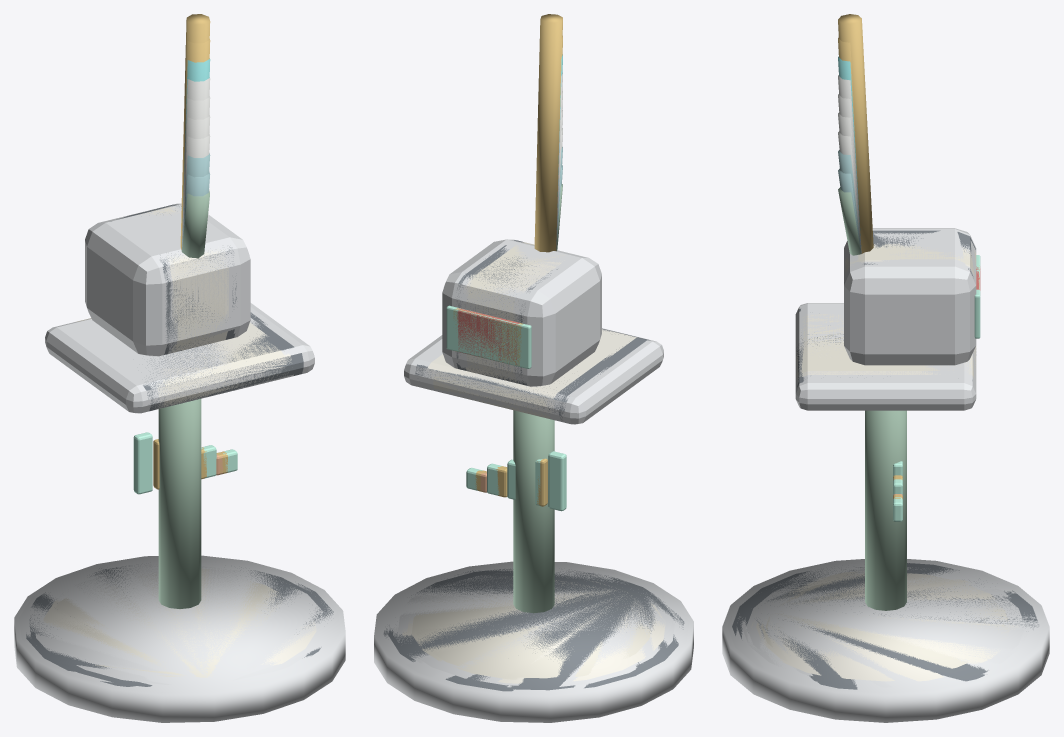
File: Gear08.fbx
3 views of the same model, side by side, from view 1: azimuth 30°, elevation 25°; view 2: azimuth 150°, elevation 25°; view 3: azimuth 270°, elevation 25° (orthographic). The views are drawn at different scales.
Visible parts, largest first — view 1: Gear08_V10_Platinum, Gear08_V9_Platinum, Gear08_V1_Sage, Gear08_V6_Platinum, Gear08_V2_Ivory, Gear08_V4_Linen, Gear08_V7_Graphite, Gear08_V1_Ivory, Gear08_V3_Linen, Gear08_V8_Graphite, Gear08_V5_Platinum, Gear08_V10_Gold (+10 smaller); view 2: Gear08_V10_Platinum, Gear08_V7_Graphite, Gear08_V2_Ivory, Gear08_V1_Sage, Gear08_V1_Ivory, Gear08_V6_Platinum, Gear08_V10_Gold, Gear08_V4_Linen, Gear08_V3_Linen, Gear08_V9_Platinum, Gear08_V10_Glow, Gear08_V5_Platinum (+9 smaller); view 3: Gear08_V10_Platinum, Gear08_V5_Platinum, Gear08_V1_Sage, Gear08_V9_Platinum, Gear08_V8_Graphite, Gear08_V1_Ivory, Gear08_V3_Linen, Gear08_V4_Linen, Gear08_V10_Gold, Gear08_V6_Platinum, Gear08_V2_Ivory, Gear08_V7_Graphite (+1 smaller).
Boxes of the visible parts, box(x1,y1,x2,y2) form: Gear08_V10_Platinum: box(14, 203, 345, 722); Gear08_V9_Platinum: box(19, 204, 340, 692); Gear08_V1_Sage: box(158, 189, 209, 608); Gear08_V6_Platinum: box(35, 206, 324, 680); Gear08_V2_Ivory: box(56, 207, 284, 677); Gear08_V4_Linen: box(43, 206, 316, 665); Gear08_V7_Graphite: box(29, 221, 328, 686); Gear08_V1_Ivory: box(100, 207, 283, 676); Gear08_V3_Linen: box(54, 250, 288, 628); Gear08_V8_Graphite: box(26, 204, 333, 686); Gear08_V5_Platinum: box(42, 205, 316, 684); Gear08_V10_Gold: box(180, 14, 210, 249); Gear08_V10_Platinum: box(374, 239, 693, 722); Gear08_V7_Graphite: box(388, 240, 678, 690); Gear08_V2_Ivory: box(411, 242, 604, 679); Gear08_V1_Sage: box(513, 184, 562, 613); Gear08_V1_Ivory: box(416, 254, 650, 678); Gear08_V6_Platinum: box(393, 241, 674, 687); Gear08_V10_Gold: box(534, 14, 562, 252); Gear08_V4_Linen: box(402, 259, 665, 683); Gear08_V3_Linen: box(407, 242, 658, 681); Gear08_V9_Platinum: box(379, 240, 688, 676); Gear08_V10_Glow: box(446, 305, 556, 509); Gear08_V5_Platinum: box(397, 252, 670, 685); Gear08_V10_Platinum: box(722, 228, 1049, 722); Gear08_V5_Platinum: box(746, 241, 1024, 675); Gear08_V1_Sage: box(838, 187, 906, 610); Gear08_V9_Platinum: box(727, 230, 1044, 693); Gear08_V8_Graphite: box(732, 230, 1038, 689); Gear08_V1_Ivory: box(765, 243, 1005, 668); Gear08_V3_Linen: box(756, 243, 1015, 681); Gear08_V4_Linen: box(751, 244, 1018, 681); Gear08_V10_Gold: box(838, 14, 873, 253); Gear08_V6_Platinum: box(741, 243, 1029, 687); Gear08_V2_Ivory: box(761, 244, 1010, 647); Gear08_V7_Graphite: box(737, 236, 1034, 687).
Size of the model in its own units: 54.4 by 117 by 54.4.
